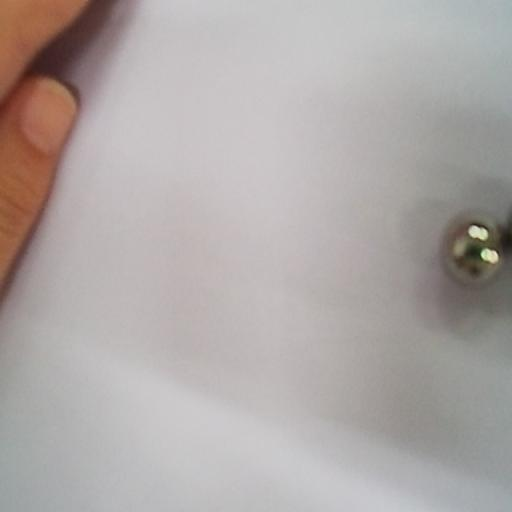steel-ball: (436, 203, 508, 295)
